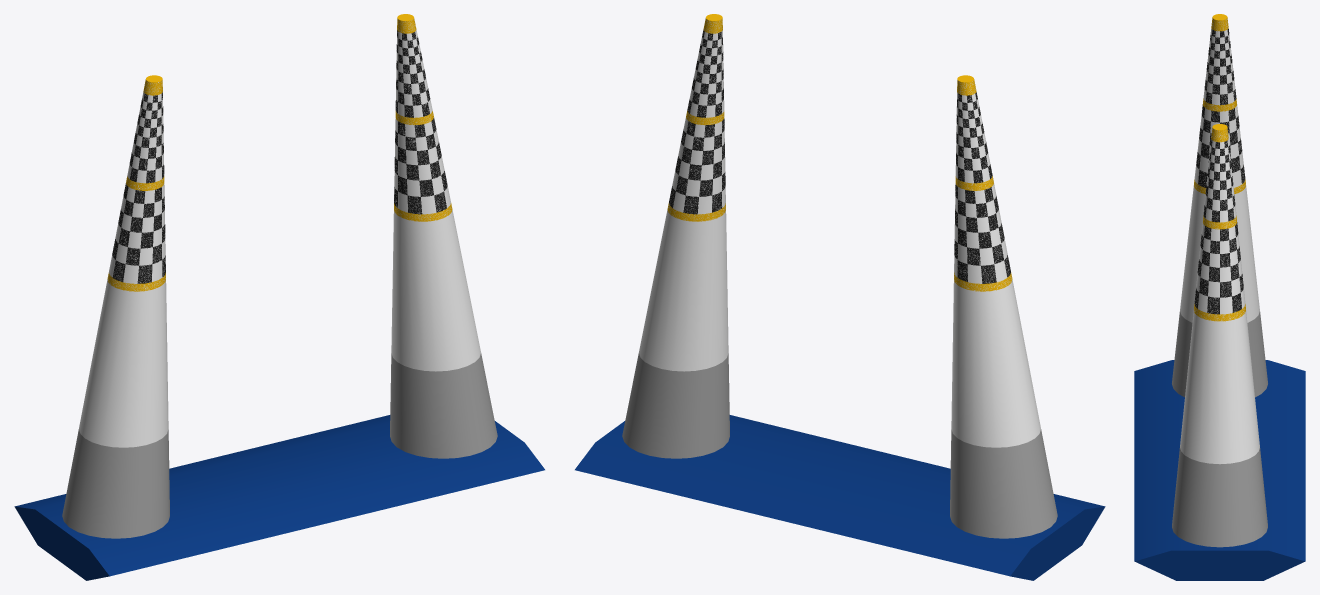
The model's file is StartGate.dae.
The picture shows the model from 3 angles, left to right: view 1: azimuth 30°, elevation 25°; view 2: azimuth 150°, elevation 25°; view 3: azimuth 270°, elevation 25°; orthographic projection. The views are drawn at different scales.
Visible parts, largest first — view 1: StartGate, Difference1 (×2), Intersection (×2); view 2: StartGate, Difference1 (×2), Intersection (×2); view 3: StartGate, Difference1 (×2), Intersection (×2), group_4 (×2), group_1.
Boxes of the visible parts, bbox=[...] form: StartGate: bbox=[14, 415, 544, 580]; Difference1 (×2): bbox=[79, 209, 480, 447]; Intersection (×2): bbox=[62, 353, 497, 538]; StartGate: bbox=[575, 415, 1105, 580]; Difference1 (×2): bbox=[639, 209, 1040, 447]; Intersection (×2): bbox=[622, 353, 1057, 538]; StartGate: bbox=[1134, 360, 1305, 580]; Difference1 (×2): bbox=[1180, 185, 1259, 464]; Intersection (×2): bbox=[1172, 311, 1267, 547]; group_4 (×2): bbox=[1202, 98, 1237, 229]; group_1: bbox=[1194, 304, 1245, 321].
Size of the model in its own units: 949 by 360 by 961.
